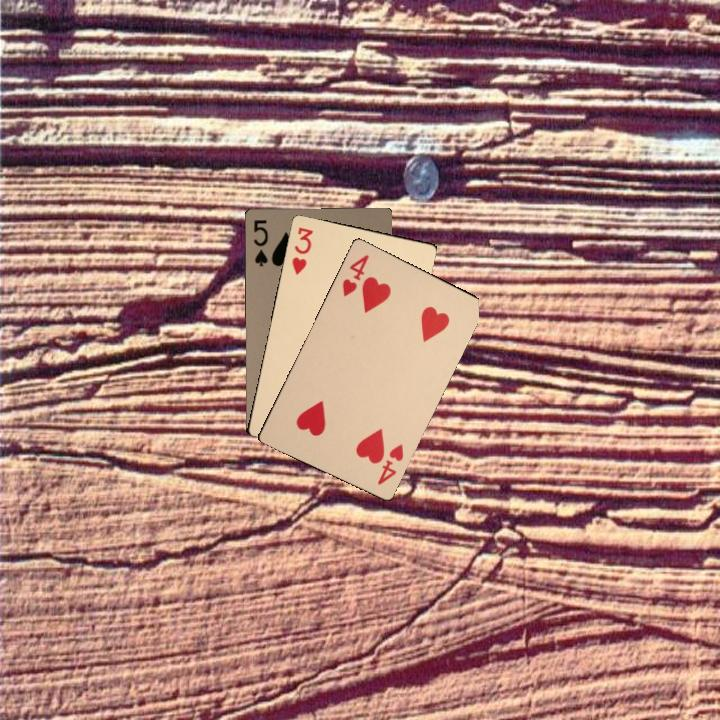3h: (288, 223, 315, 277)
4h: (338, 250, 372, 299), (373, 440, 406, 488)
5s: (249, 216, 271, 268)
